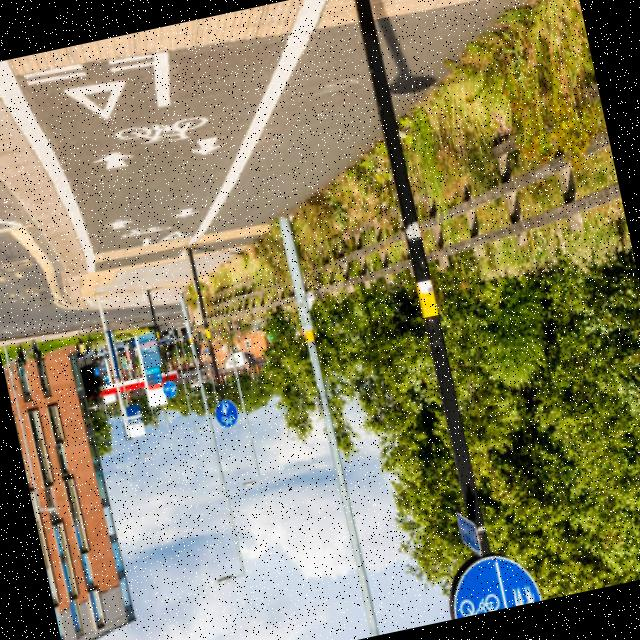bicycle: (441, 542, 548, 619)
